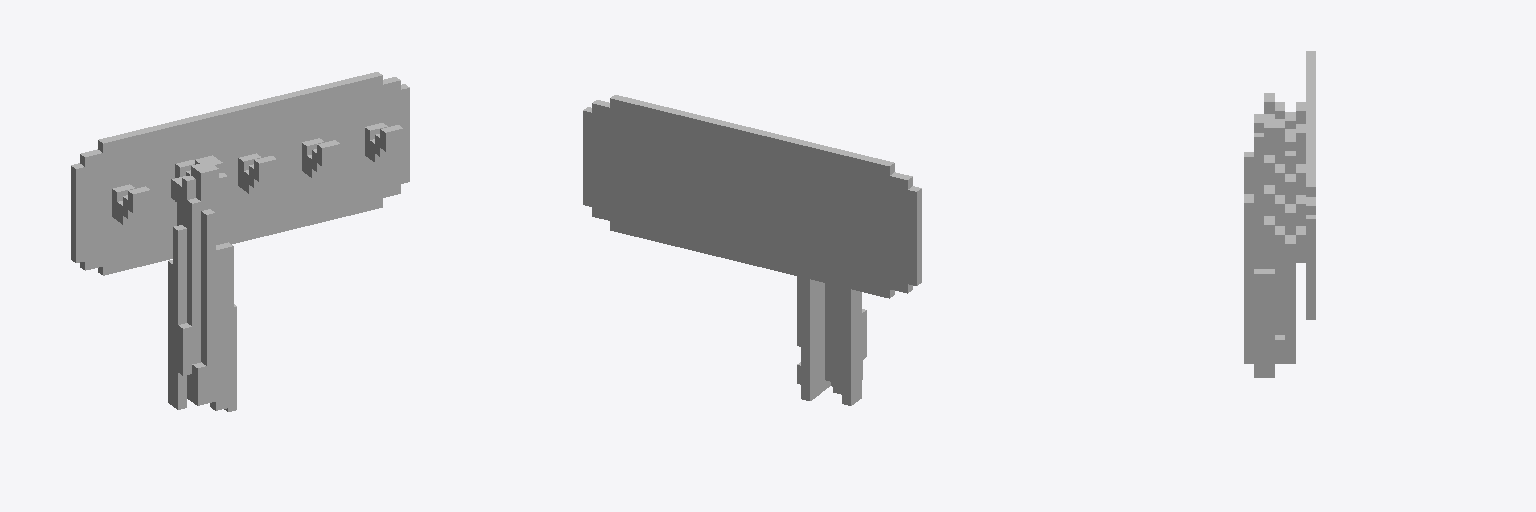
Rendered from coat hanger.obj.
3 renders of one model, left to right at view 1: azimuth 30°, elevation 25°; view 2: azimuth 150°, elevation 25°; view 3: azimuth 270°, elevation 25°, orthographic.
Visible parts, largest first — view 1: object 1; view 2: object 1; view 3: object 1.
Boxes of the visible parts, x1=… form: object 1: x1=71, y1=72, x2=409, y2=411; object 1: x1=583, y1=95, x2=921, y2=405; object 1: x1=1244, y1=51, x2=1315, y2=377.
Size of the model in its own units: 3.7 by 2.9 by 0.7.